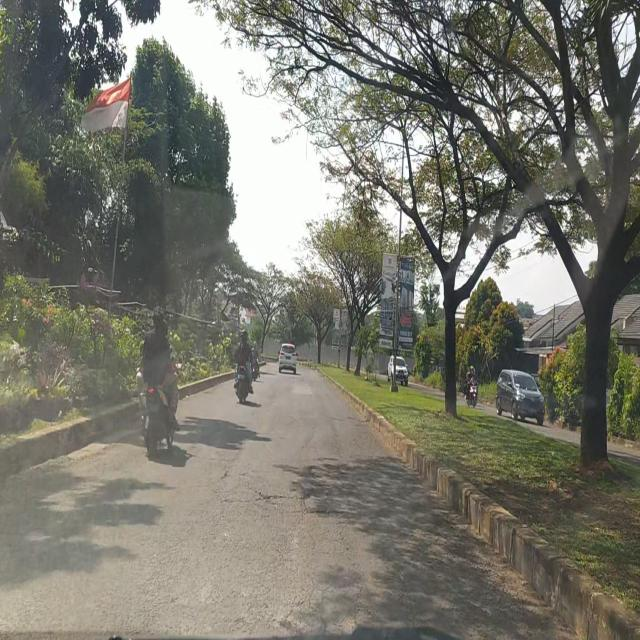Drain Hole: (224, 473, 301, 518)
